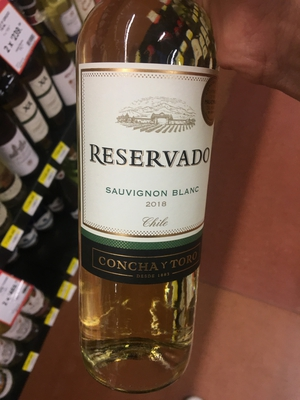reservado sauvignon blanc: (63, 11, 229, 383)
